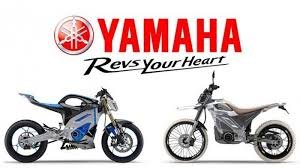motor: (162, 82, 294, 164), (5, 86, 139, 166)
